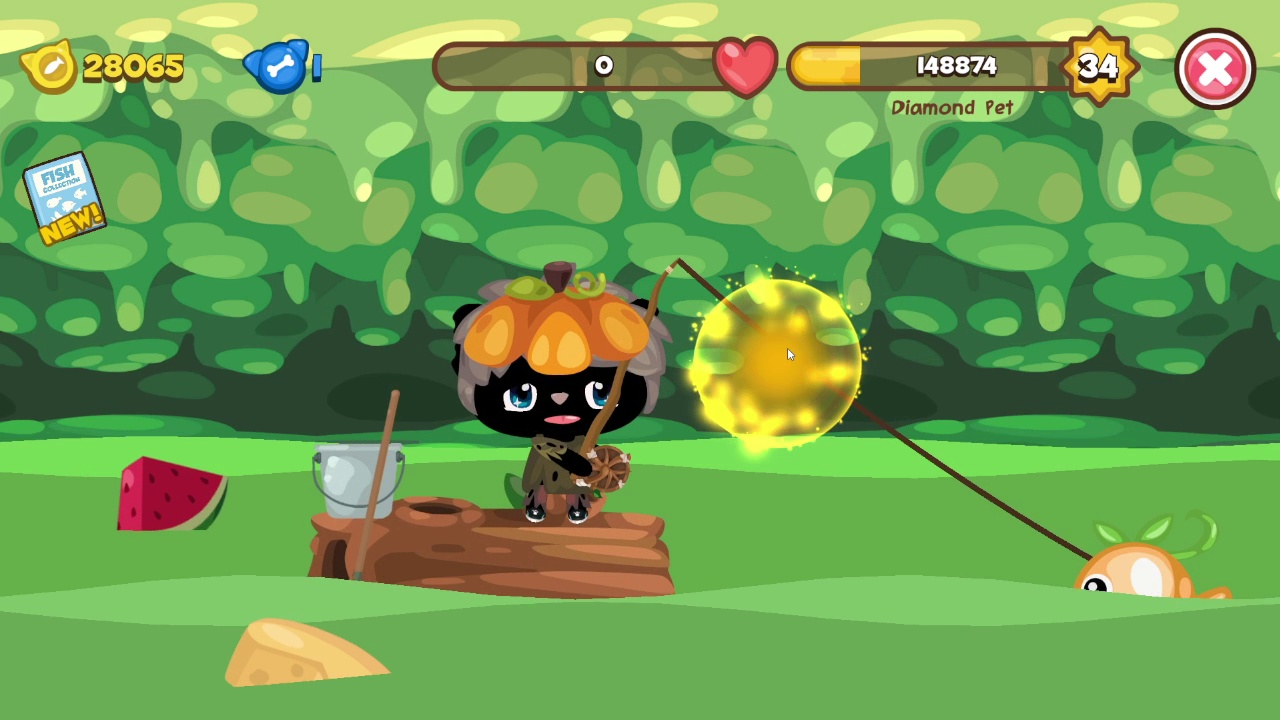point: (688, 275, 869, 452)
